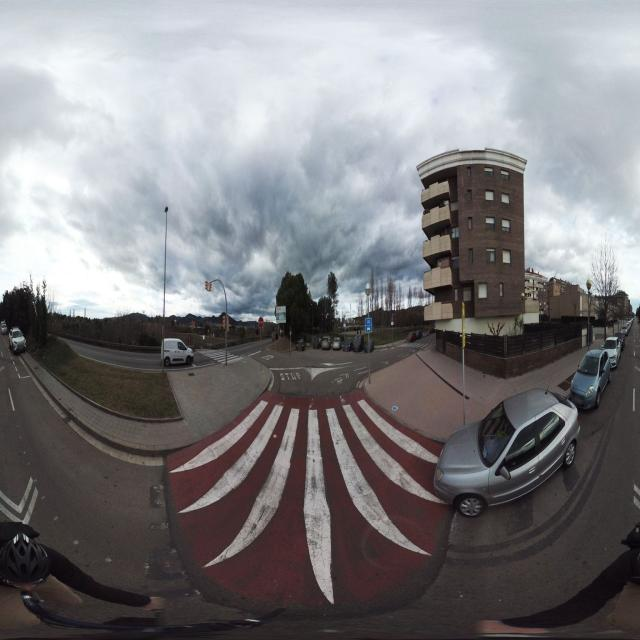forb_stopping: (391, 317, 393, 322)
